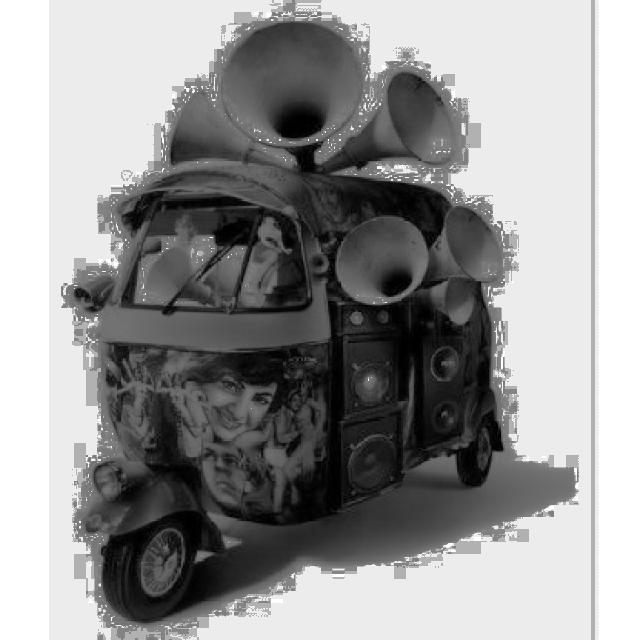Auto-Rickshaw: (71, 158, 516, 628)
